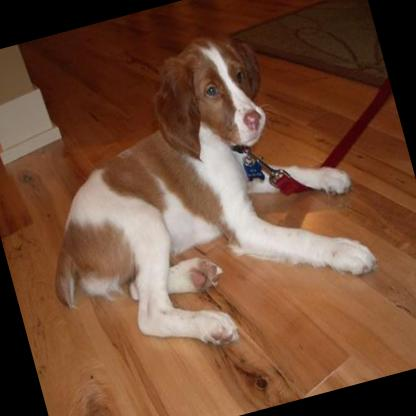Brittany_spaniel: (0, 0, 391, 387)
